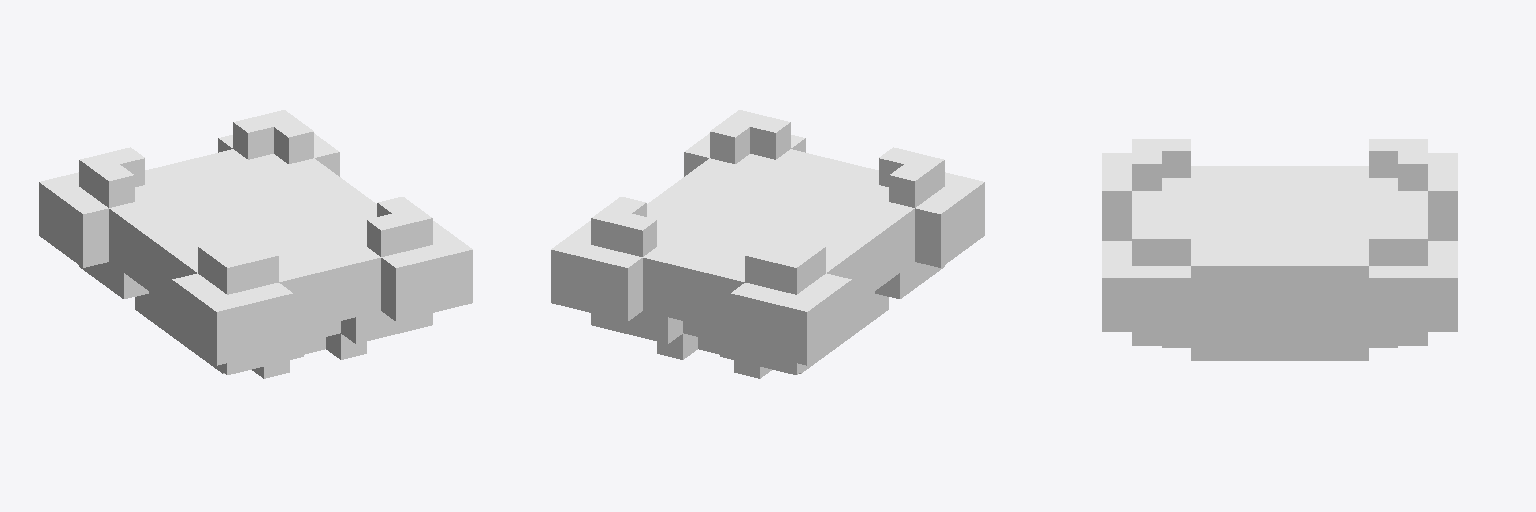
File: Lift-3.obj
3 views of the same model, side by side, from view 1: azimuth 30°, elevation 25°; view 2: azimuth 150°, elevation 25°; view 3: azimuth 270°, elevation 25° (orthographic).
Visible parts, largest first — view 1: object 1; view 2: object 1; view 3: object 1.
Part boxes in pixels (x1,y1,x2,y2): object 1: (39,110,472,378); object 1: (551,110,984,378); object 1: (1102,139,1457,360).
Size of the model in its own units: 1 by 0.5 by 1.2.